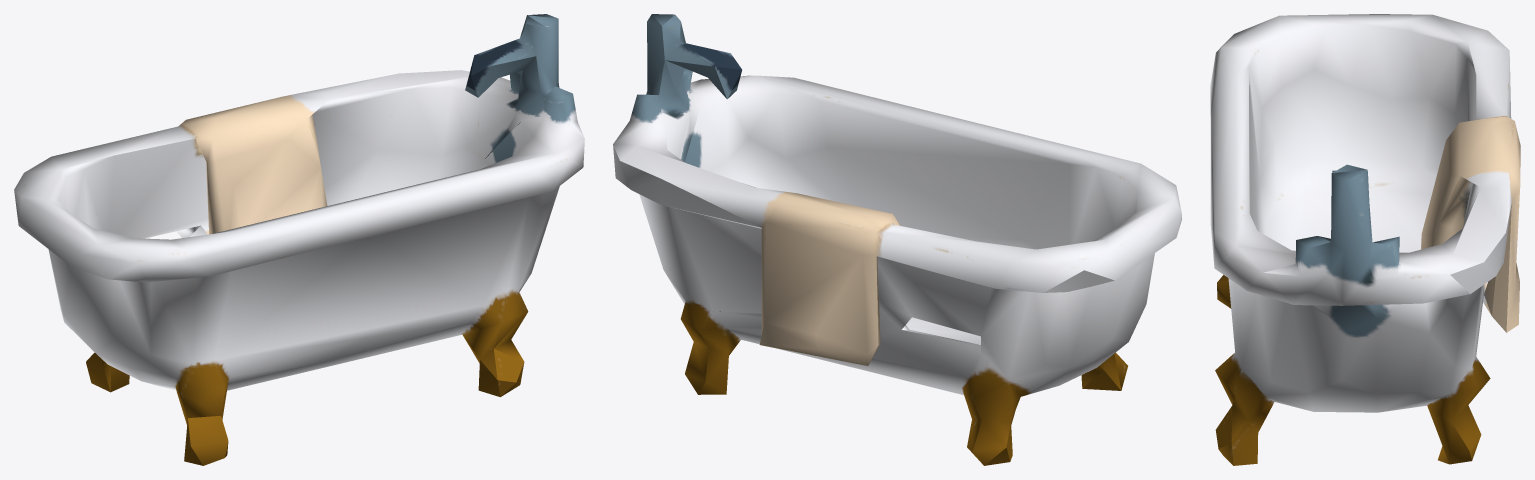
The model's file is tinytown-bathtub.glb.
3 views of the same model, side by side, from view 1: azimuth 30°, elevation 25°; view 2: azimuth 150°, elevation 25°; view 3: azimuth 270°, elevation 25° (orthographic). The views are drawn at different scales.
Parts seen in each view (by area): view 1: geometry_0.001; view 2: geometry_0.001; view 3: geometry_0.001.
Boxes of the visible parts, x1,y1,x2,y2 form: geometry_0.001: (14,14,584,465); geometry_0.001: (613,14,1181,465); geometry_0.001: (1210,14,1520,465).
Bounding box in the file's own units: 0.9987 × 0.5809 × 0.4867.
1 material, 1 textured.
